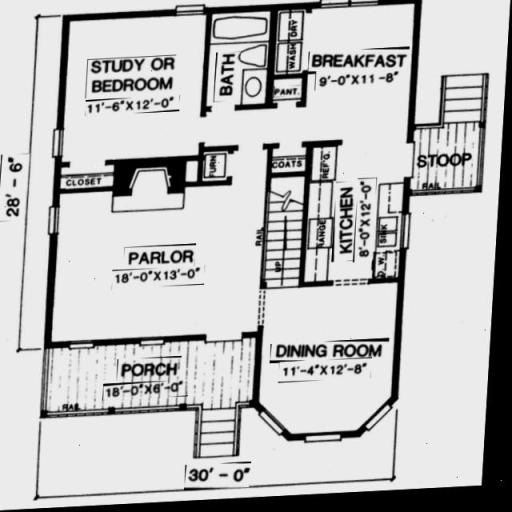Room: (297, 11, 409, 163), (270, 291, 388, 422)
bathroom: (206, 6, 276, 164)
bedroom: (66, 15, 194, 154)
kitchen: (306, 171, 406, 279)
porch: (55, 344, 256, 415)
